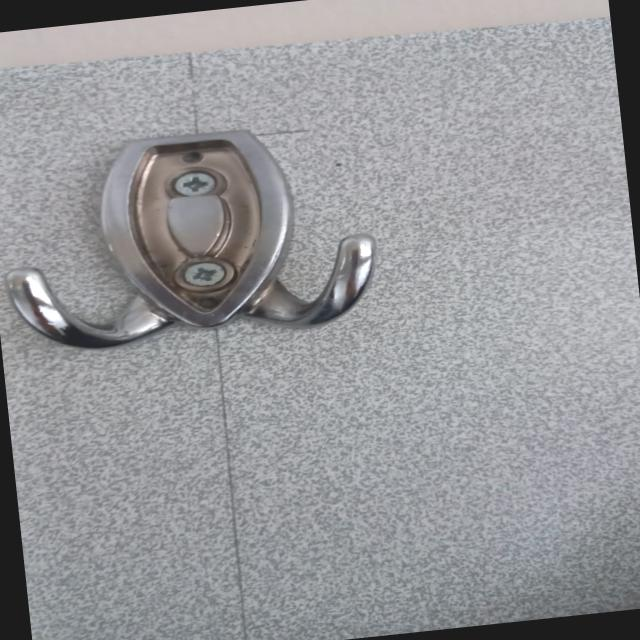Phillips: (173, 258, 240, 290), (172, 168, 220, 203)
